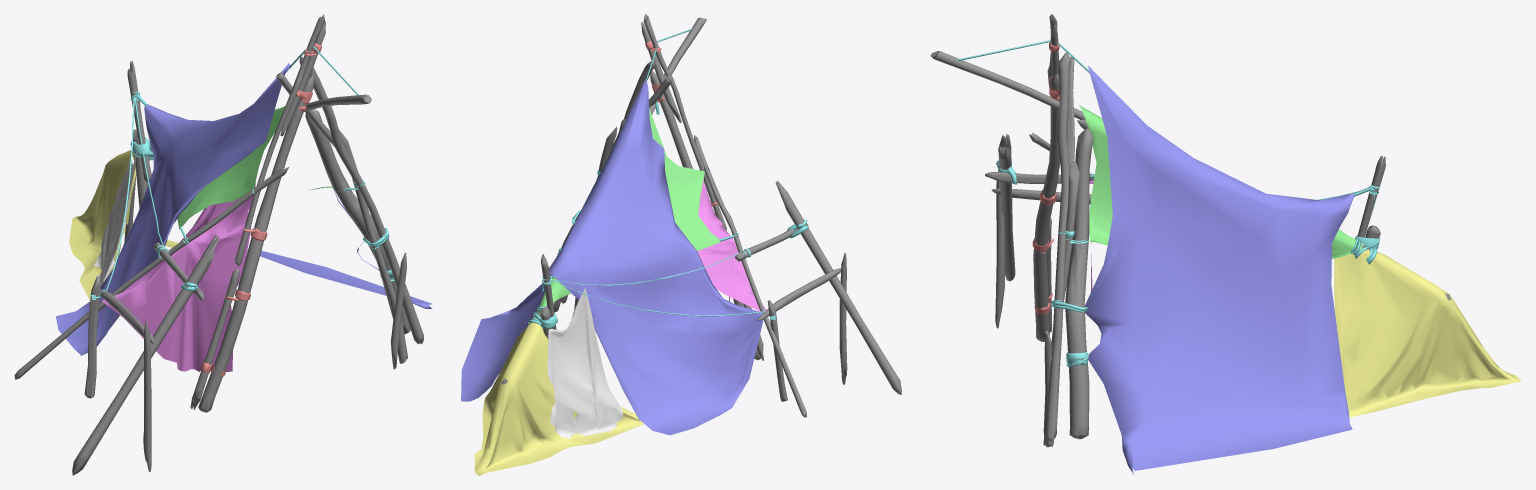
Rendered from wooden_village_tent_base_A_02.gltf.
3 renders of one model, left to right at view 1: azimuth 30°, elevation 25°; view 2: azimuth 150°, elevation 25°; view 3: azimuth 270°, elevation 25°, orthographic. The views are drawn at different scales.
Parts seen in each view (by area): view 1: wooden_village_tent_base_A_02; view 2: wooden_village_tent_base_A_02; view 3: wooden_village_tent_base_A_02.
Boxes of the visible parts, x1,y1,x2,y2 form: wooden_village_tent_base_A_02: (14,14,432,475); wooden_village_tent_base_A_02: (461,14,901,475); wooden_village_tent_base_A_02: (930,14,1521,475).
Bounding box in the file's own units: 5.29 × 4.71 × 6.03.
